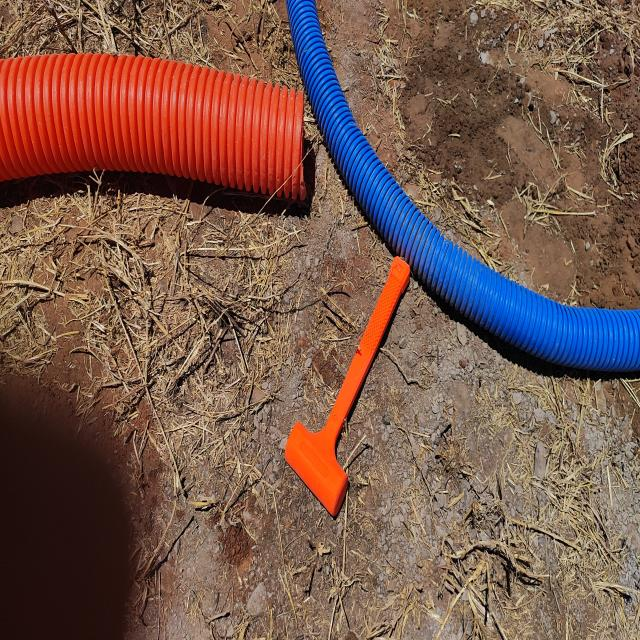Orange_hammer: (284, 254, 411, 518)
